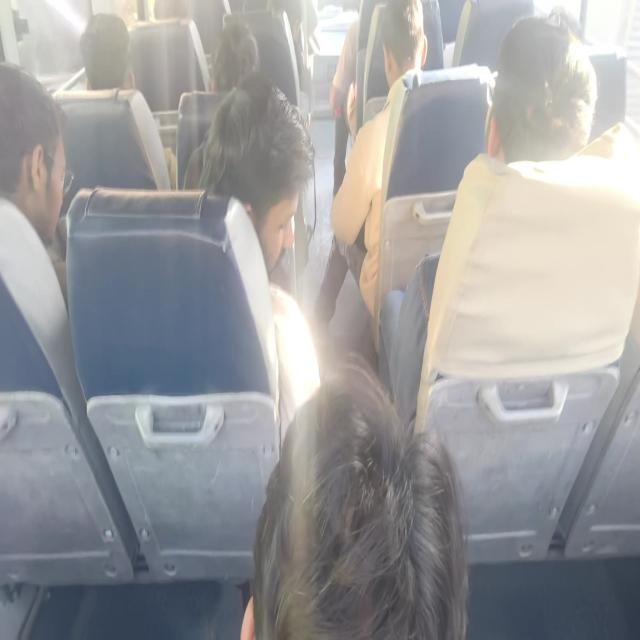person: (386, 7, 638, 436), (240, 351, 470, 638), (184, 72, 320, 450), (312, 0, 427, 352), (0, 60, 85, 427), (79, 12, 176, 190), (182, 16, 261, 189), (80, 11, 134, 90), (210, 18, 260, 92)
